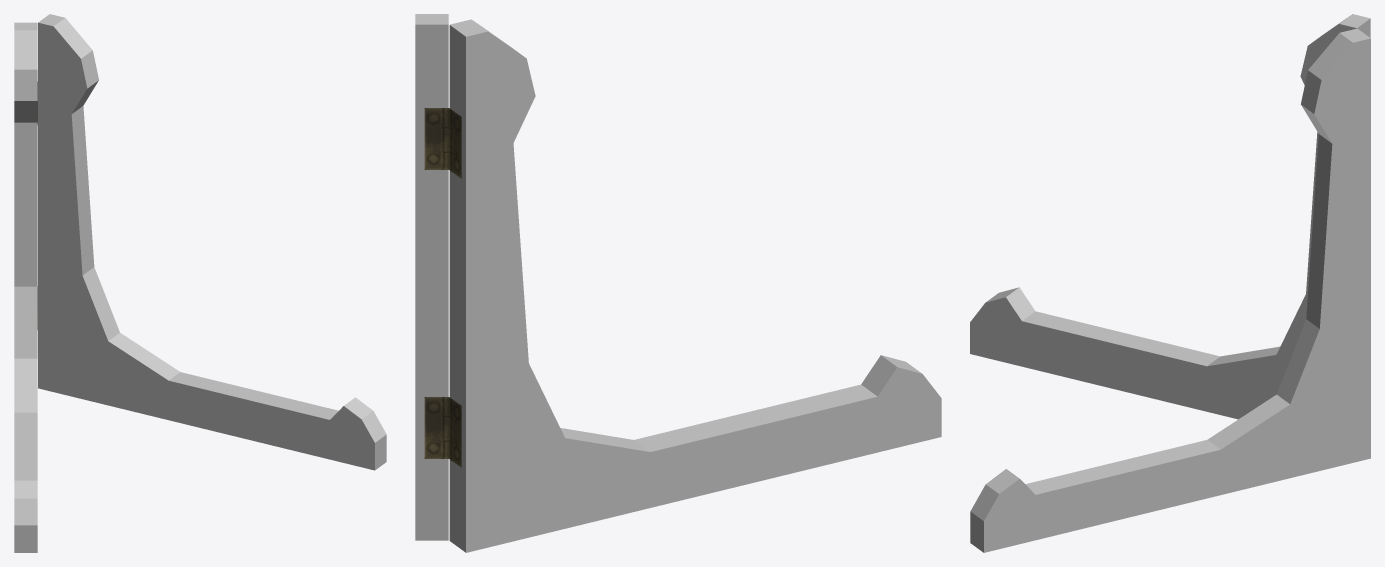
Rendered from jov_porcelainstand03.fbx.
The picture shows the model from 3 angles, left to right: view 1: azimuth 30°, elevation 25°; view 2: azimuth 150°, elevation 25°; view 3: azimuth 270°, elevation 25°; orthographic projection. The views are drawn at different scales.
Visible parts, largest first — view 1: jov_porcelainstand03; view 2: jov_porcelainstand03; view 3: jov_porcelainstand03.
Boxes of the visible parts, x1,y1,x2,y2 form: jov_porcelainstand03: (14,14,386,552); jov_porcelainstand03: (415,14,941,552); jov_porcelainstand03: (970,14,1370,552).
Size of the model in its own units: 0.3177 by 0.298 by 0.2576.
